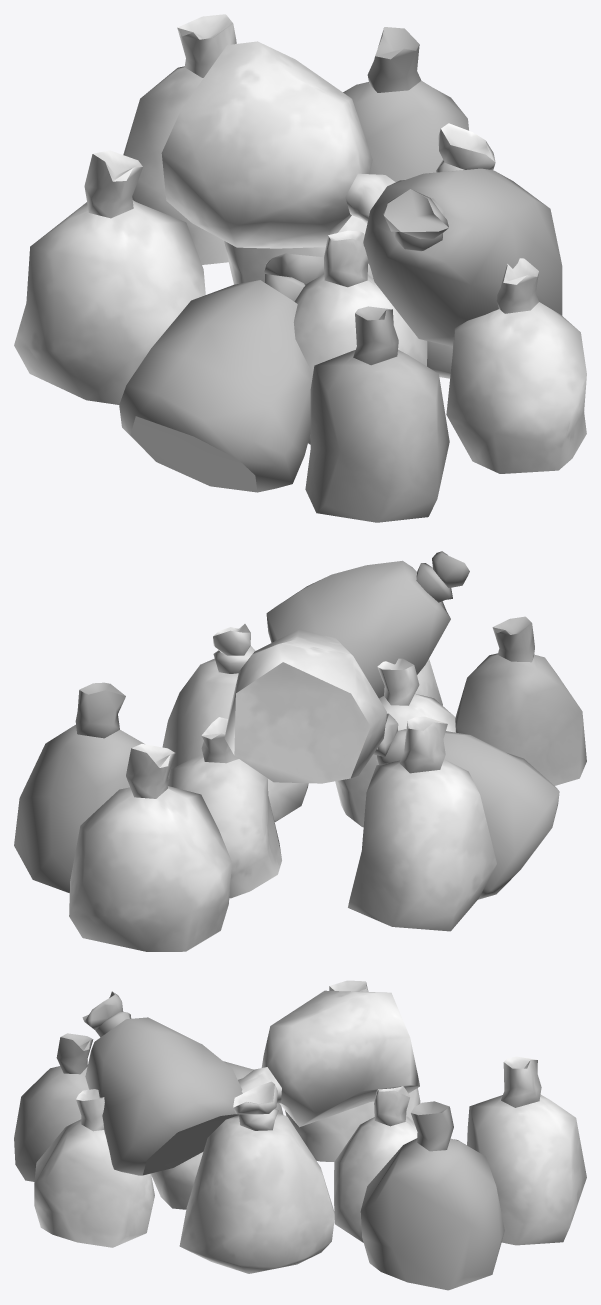
Rendered from Pfb_GargabePileBags__2.fbx.
3 views of the same model, one above another, from view 1: azimuth 30°, elevation 25°; view 2: azimuth 150°, elevation 25°; view 3: azimuth 270°, elevation 25° (orthographic). The views are drawn at different scales.
Visible parts, largest first — view 1: Mat_Bags_01_2, Mat_Bags_01_1 Character, Mat_Bags_01_2 1; view 2: Mat_Bags_01_2, Mat_Bags_01_1 Character, Mat_Bags_01_2 1; view 3: Mat_Bags_01_2, Mat_Bags_01_1 Character, Mat_Bags_01_2 1.
Boxes of the visible parts, x1,y1,x2,y2 form: Mat_Bags_01_2: (14,14,586,473); Mat_Bags_01_1 Character: (119,27,562,492); Mat_Bags_01_2 1: (305,306,449,522); Mat_Bags_01_2: (69,624,496,951); Mat_Bags_01_1 Character: (14,551,559,899); Mat_Bags_01_2 1: (455,616,586,785); Mat_Bags_01_2: (34,980,586,1273); Mat_Bags_01_1 Character: (82,991,504,1290); Mat_Bags_01_2 1: (14,1033,93,1181).
Bounding box in the file's own units: 2.3 × 1.49 × 3.15.
3 materials, 3 textured.
